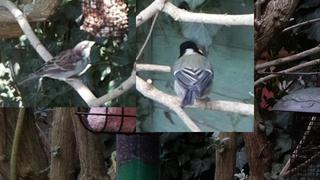great tit: (172, 40, 214, 111)
sparrow: (17, 40, 96, 87)
